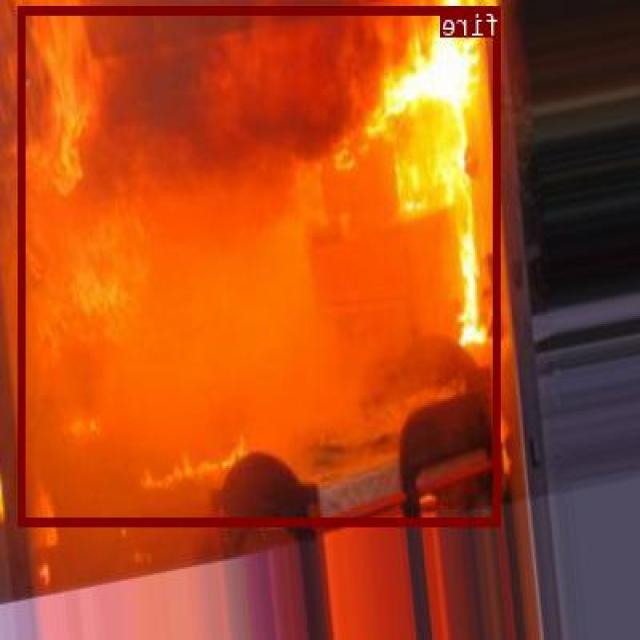fire: (20, 4, 501, 524)
